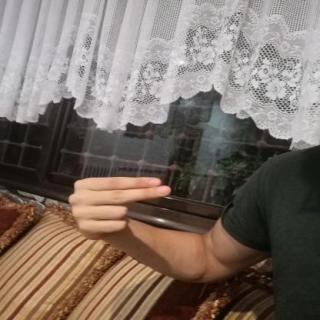AYN: (57, 166, 185, 244)
